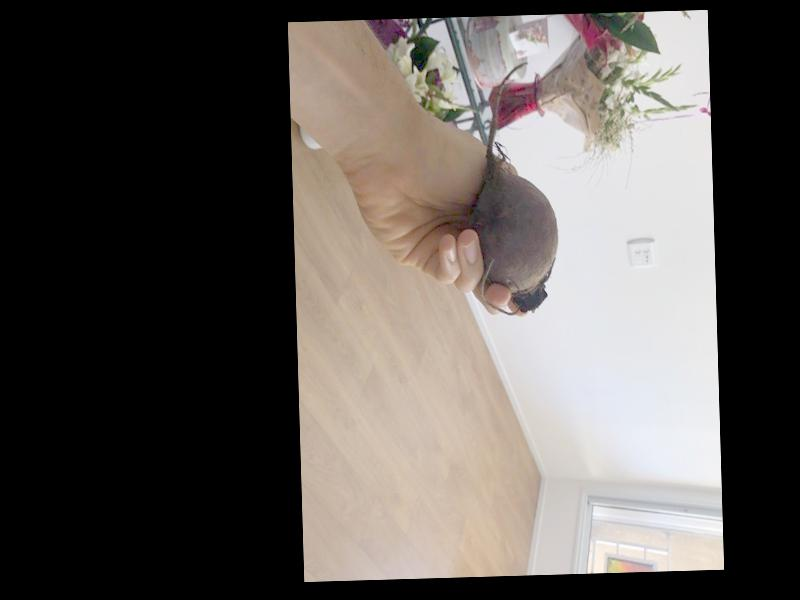Beet: (466, 62, 560, 316)
